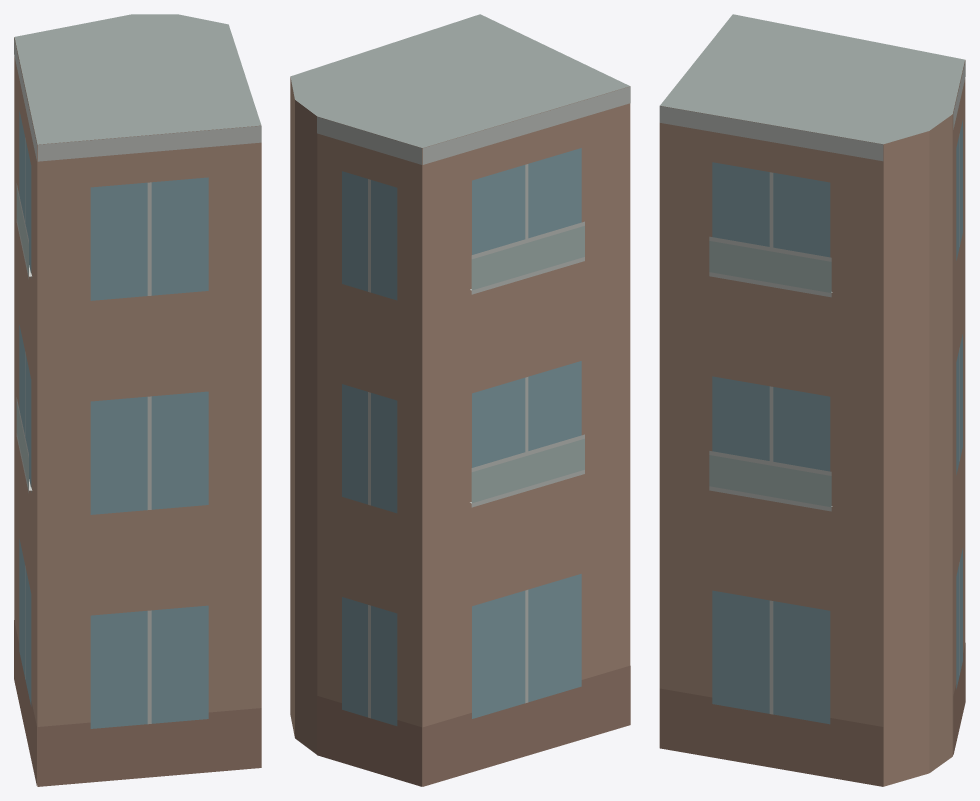
The model's file is survey-upis-32597986.glb.
The picture shows the model from 3 angles, left to right: view 1: azimuth 30°, elevation 25°; view 2: azimuth 150°, elevation 25°; view 3: azimuth 270°, elevation 25°; orthographic projection.
Parts seen in each view (by area): view 1: survey-upis-32597986.tmp; view 2: survey-upis-32597986.tmp; view 3: survey-upis-32597986.tmp.
Boxes of the visible parts, x1,y1,x2,y2 form: survey-upis-32597986.tmp: (14, 14, 261, 786); survey-upis-32597986.tmp: (290, 14, 630, 786); survey-upis-32597986.tmp: (659, 14, 965, 786).
Size of the model in its own units: 3.99 by 9.15 by 3.95.
